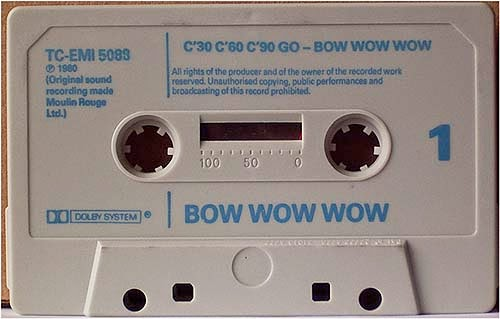Nonrec_Other: (6, 8, 499, 310)
